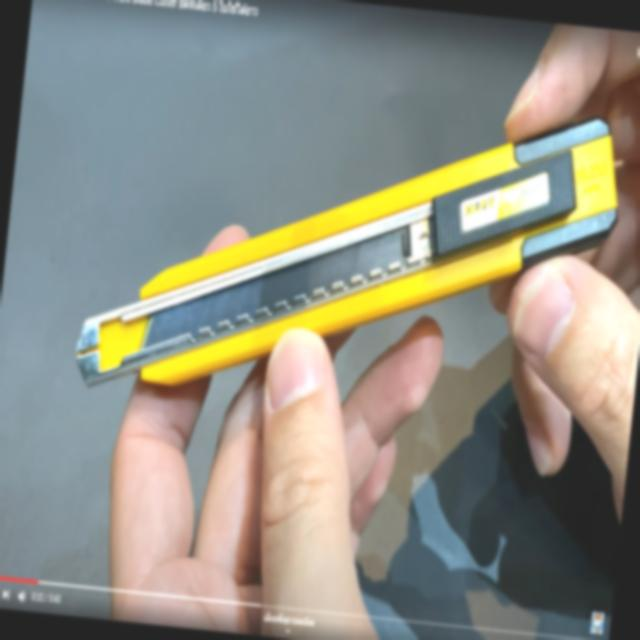cutter: (36, 22, 640, 640)
